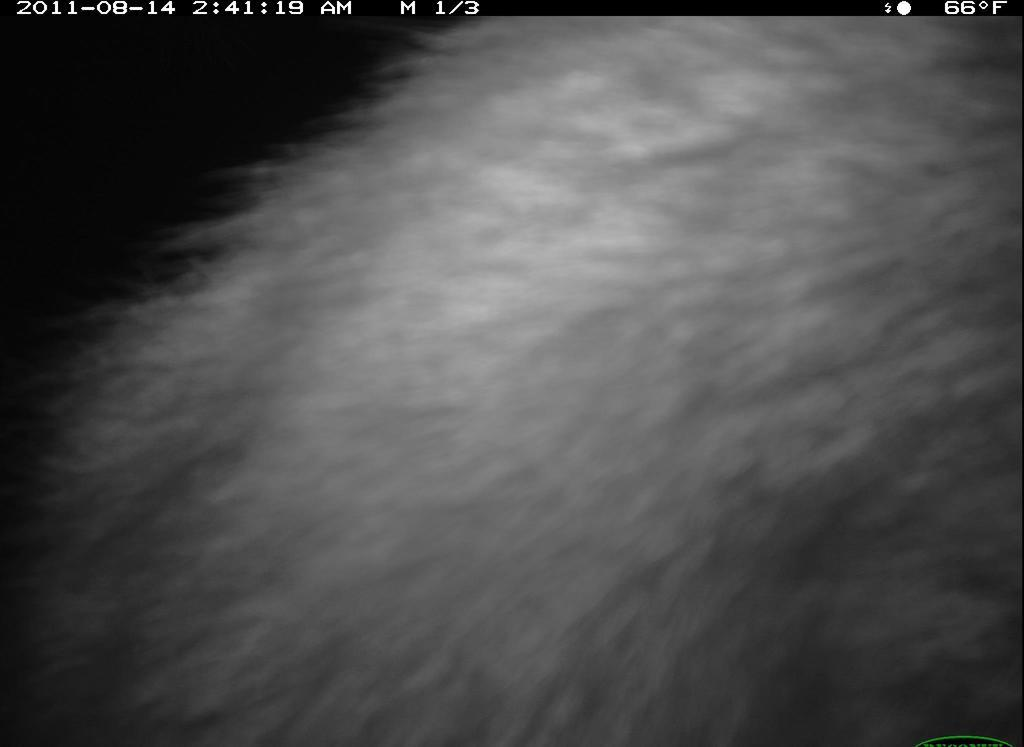raccoon: (77, 20, 1023, 747)
